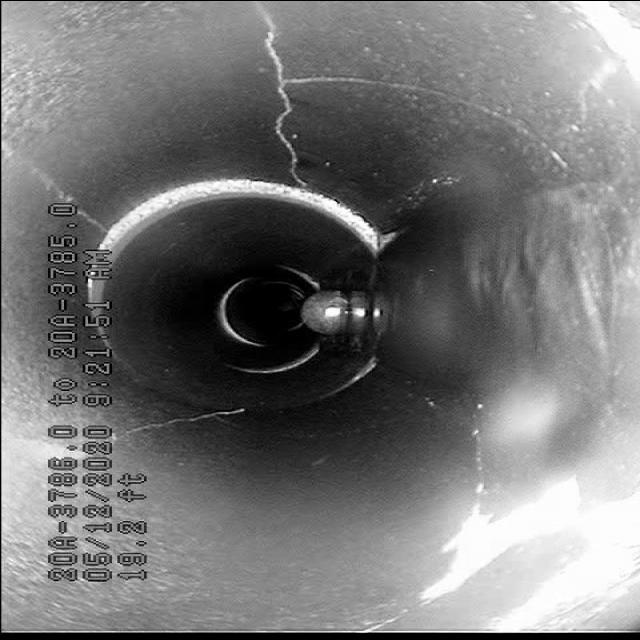Crack: (237, 34, 339, 164)
